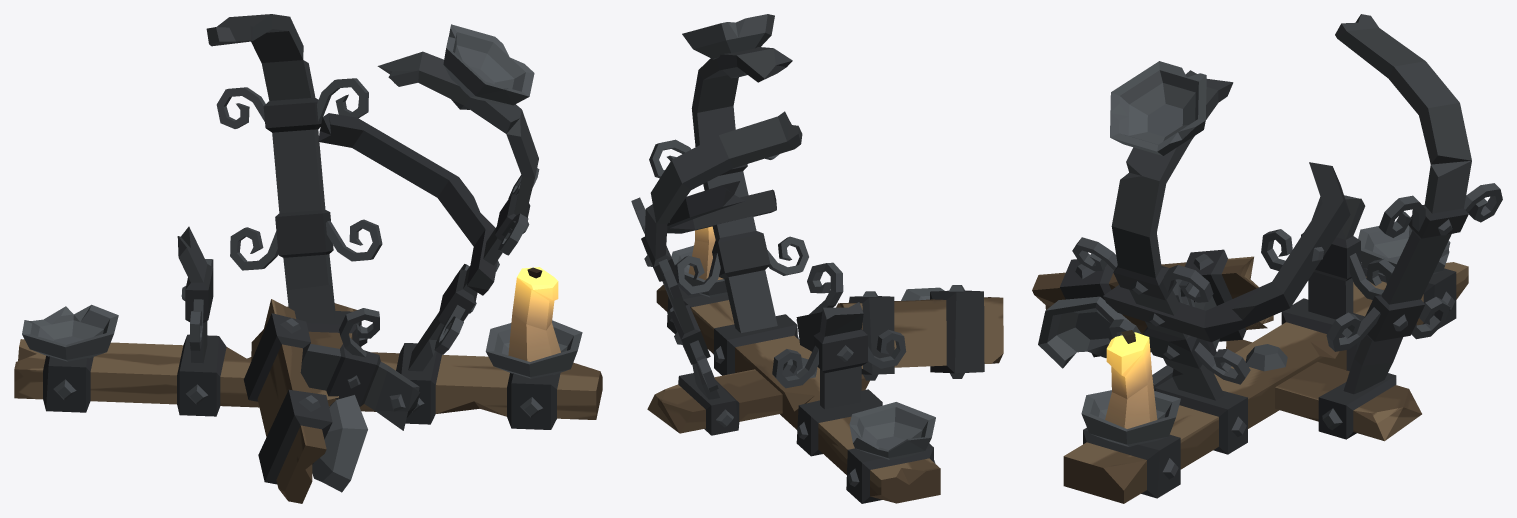
File: SM_Prop_Chandelier_01_Damaged_01.fbx
The picture shows the model from 3 angles, left to right: view 1: azimuth 30°, elevation 25°; view 2: azimuth 150°, elevation 25°; view 3: azimuth 270°, elevation 25°; orthographic projection. The views are drawn at different scales.
Visible parts, largest first — view 1: SM_Prop_Chandelier_01_Damaged_01; view 2: SM_Prop_Chandelier_01_Damaged_01; view 3: SM_Prop_Chandelier_01_Damaged_01.
Boxes of the visible parts, x1=… form: SM_Prop_Chandelier_01_Damaged_01: x1=14, y1=14, x2=602, y2=503; SM_Prop_Chandelier_01_Damaged_01: x1=631, y1=14, x2=1003, y2=503; SM_Prop_Chandelier_01_Damaged_01: x1=1032, y1=14, x2=1502, y2=503.
Size of the model in its own units: 126 by 99.94 by 111.
